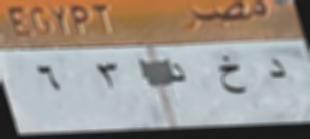3: (95, 59, 118, 90)
6: (34, 61, 66, 98)
daal: (260, 56, 291, 87), (166, 62, 189, 89)
khaa: (215, 52, 249, 102)
